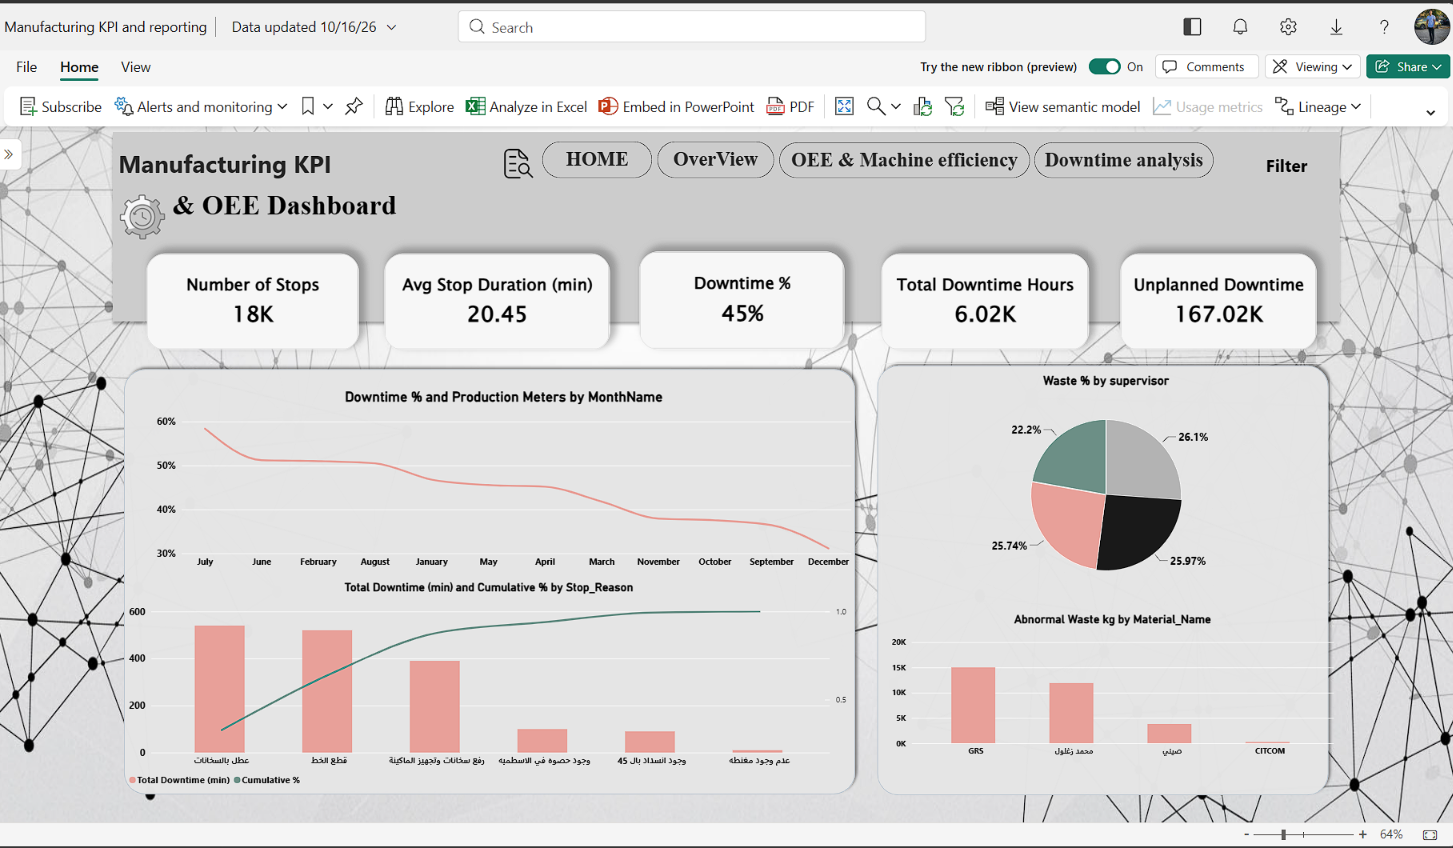

The dashboard page shown, as its layout file describes it:
{"tool":"powerbi","page":{"name":"Downtime analysis","canvas":[1920,1080],"ordinal":3},"visuals":[{"type":"shape","box":[0,0,1921.2,310.9],"z":0},{"type":"textbox","box":[17.5,32.6,412.9,53.4],"z":1000},{"type":"textbox","box":[100.2,97.7,349.8,55.9],"z":2000},{"type":"shape","box":[17.5,367.5,1152.5,677.5],"z":3000},{"type":"shape","box":[1170,347.5,750,715],"z":4000},{"type":"cardVisual","fields":{"Data":["Downtime Analysis.Number of Stops"]},"box":[60,197.5,330,150],"z":5000},{"type":"cardVisual","fields":{"Data":["Downtime Analysis.Avg Stop Duration (min)"]},"box":[430,197.5,350,150],"z":6000},{"type":"cardVisual","fields":{"Data":["Downtime Analysis.Downtime %"]},"box":[825.3,194.3,318.8,152.8],"z":7000},{"type":"cardVisual","fields":{"Data":["Downtime Analysis.Total Downtime Hours"]},"box":[1200.8,196.5,322.5,150],"z":8000},{"type":"cardVisual","fields":{"Data":["Measure.Unplanned Downtime"]},"box":[1572.5,197.5,305,150],"z":9000},{"type":"lineChart","fields":{"Category":["DimDate.MonthName"],"Y":["Downtime Analysis.Downtime %"]},"box":[60,392.5,1110,312.5],"z":10000},{"type":"lineClusteredColumnComboChart","fields":{"Category":["DimDowntime.Stop_Reason"],"Y":["Downtime Analysis.Total Downtime (min)"],"Y2":["Downtime Analysis.Cumulative %"]},"box":[17.5,689.9,1150.6,353.7],"z":11000},{"type":"clusteredColumnChart","fields":{"Category":["DimMaterial.Material_Name"],"Y":["OverView.Abnormal Waste kg"]},"box":[1200.8,740.2,718.3,257.6],"z":12000},{"type":"image","box":[16.9,93.8,75,95],"z":13000},{"type":"image","box":[613.5,30.5,52,53],"z":14000},{"type":"pieChart","title":"Waste % by supervisor","fields":{"Category":["clean_production.supervisor"],"Y":["OverView.Waste % (Supervisor)"]},"box":[1201.7,368.3,698.3,371.7],"z":15000},{"type":"actionButton","title":"Button 2","box":[1761.7,30,138.3,63.3],"z":17000},{"type":"actionButton","title":"Home","box":[675.4,23.8,170.8,56.9],"z":18000},{"type":"actionButton","title":"OEE","box":[1042.1,24.6,389.2,55.4],"z":19000},{"type":"actionButton","title":"Downtime","box":[1438.5,24.6,278.5,55.4],"z":20000},{"type":"actionButton","title":"Home","box":[853.3,23.8,181.5,56.9],"z":21000}]}

Visuals, with their boxes on the page's 1920x1080 design canvas (x1, y1, x2, y2). These are canvas units, not pixel positions in the 1453x848 screenshot, which may show the page scaled, cropped or inside an application window:
shape: <box>0,0,1921,311</box>
textbox: <box>18,33,430,86</box>
textbox: <box>100,98,450,154</box>
shape: <box>18,368,1170,1045</box>
shape: <box>1170,348,1920,1062</box>
cardVisual - Downtime Analysis.Number of Stops: <box>60,198,390,348</box>
cardVisual - Downtime Analysis.Avg Stop Duration (min): <box>430,198,780,348</box>
cardVisual - Downtime Analysis.Downtime %: <box>825,194,1144,347</box>
cardVisual - Downtime Analysis.Total Downtime Hours: <box>1201,196,1523,346</box>
cardVisual - Measure.Unplanned Downtime: <box>1572,198,1878,348</box>
lineChart - DimDate.MonthName x Downtime Analysis.Downtime %: <box>60,392,1170,705</box>
lineClusteredColumnComboChart - DimDowntime.Stop_Reason x Downtime Analysis.Total Downtime (min): <box>18,690,1168,1044</box>
clusteredColumnChart - DimMaterial.Material_Name x OverView.Abnormal Waste kg: <box>1201,740,1919,998</box>
image: <box>17,94,92,189</box>
image: <box>614,30,666,84</box>
"Waste % by supervisor" pieChart: <box>1202,368,1900,740</box>
"Button 2" actionButton: <box>1762,30,1900,93</box>
"Home" actionButton: <box>675,24,846,81</box>
"OEE" actionButton: <box>1042,25,1431,80</box>
"Downtime" actionButton: <box>1438,25,1717,80</box>
"Home" actionButton: <box>853,24,1035,81</box>
